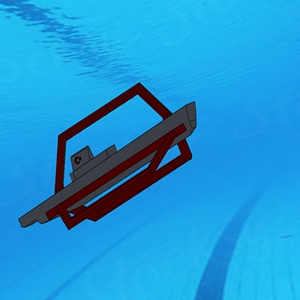submarine: (18, 81, 198, 246)
